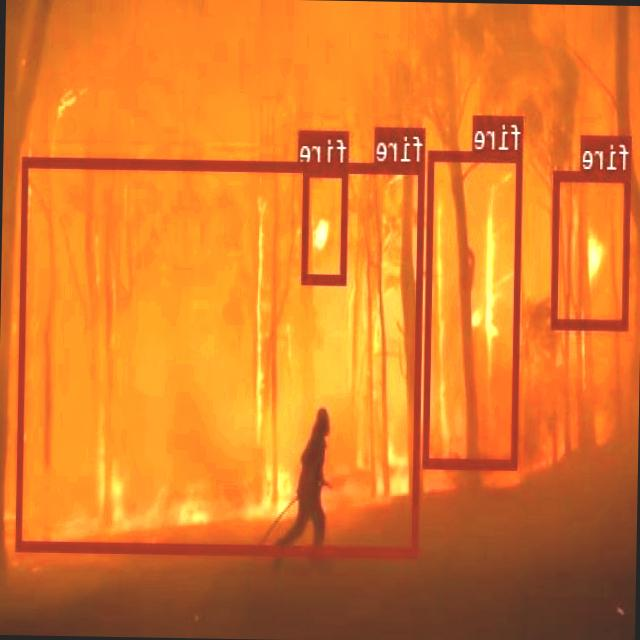fire: (17, 155, 425, 556), (424, 148, 524, 466), (552, 170, 632, 327), (302, 164, 348, 282)
